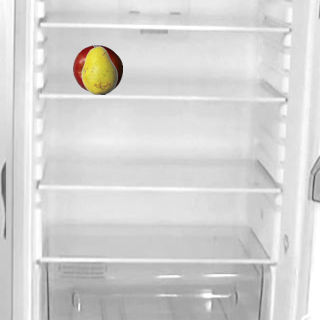Apple Braeburn: (72, 44, 122, 94)
Pear Monster: (74, 44, 124, 94)
